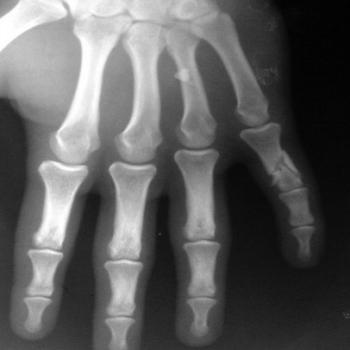Fracture: (262, 148, 310, 187)
